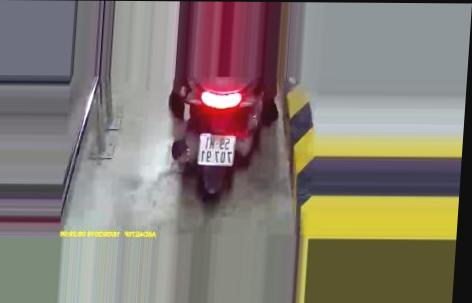License_Plate: (193, 133, 240, 170)
